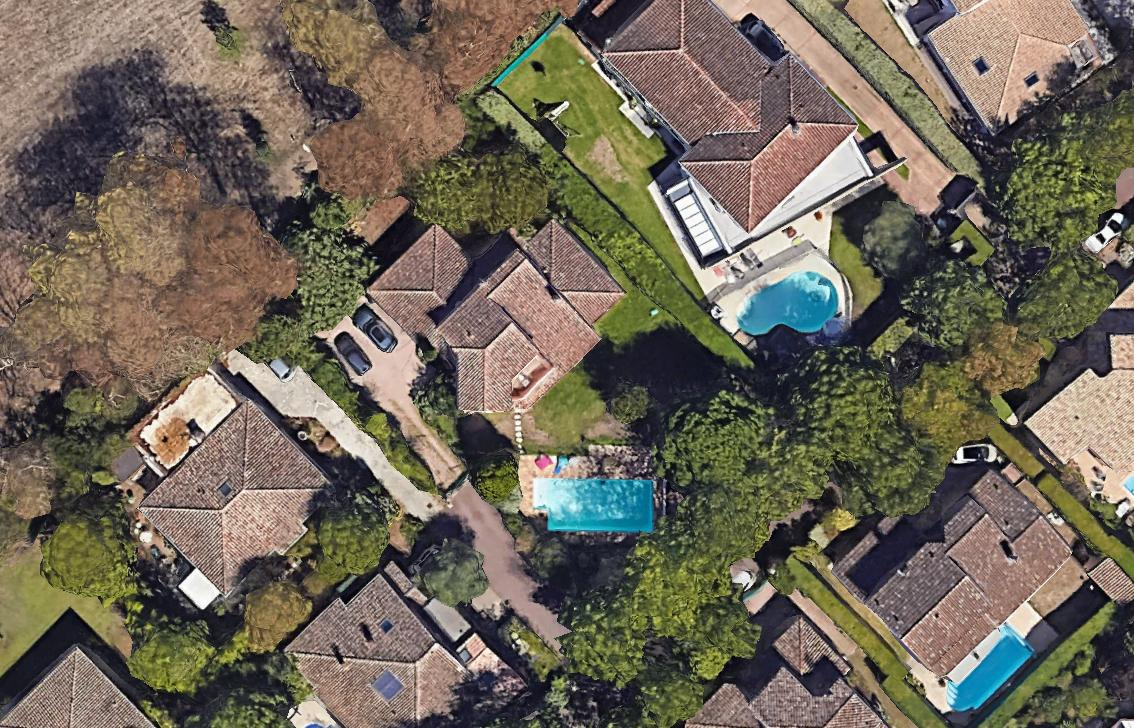maison: (356, 160, 638, 442), (581, 0, 864, 236), (830, 440, 1077, 683), (275, 545, 527, 728), (135, 396, 344, 605), (915, 0, 1104, 134), (693, 614, 887, 727), (1026, 335, 1133, 471), (0, 644, 154, 727)
